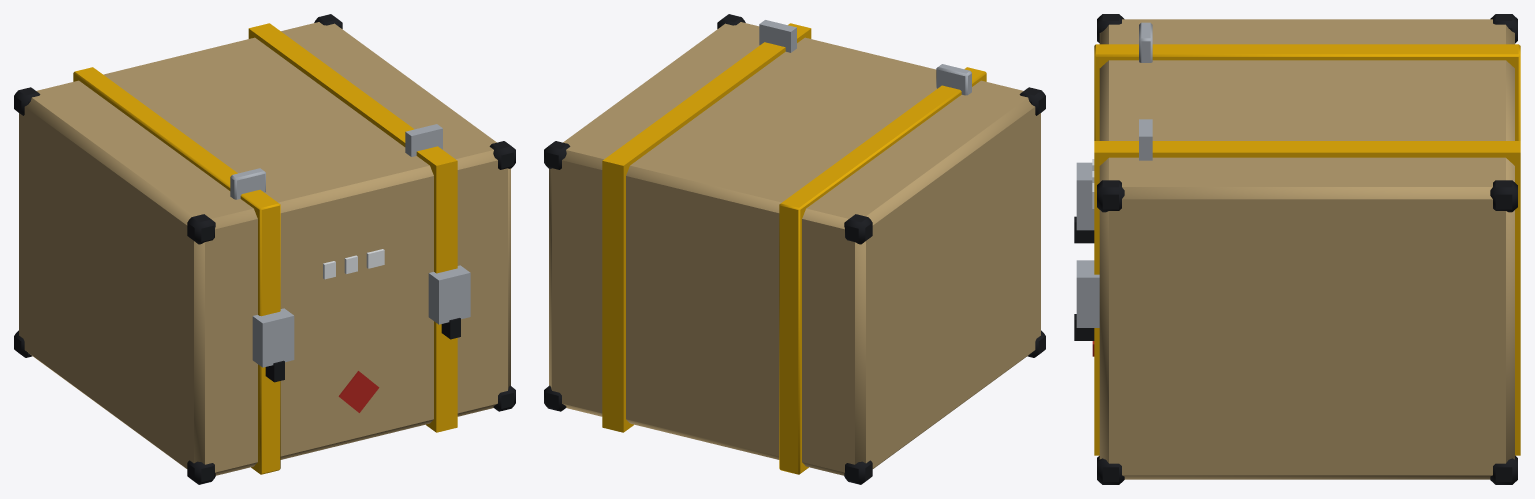
The model's file is crate_strapped_single.glb.
3 views of the same model, side by side, from view 1: azimuth 30°, elevation 25°; view 2: azimuth 150°, elevation 25°; view 3: azimuth 270°, elevation 25° (orthographic). The views are drawn at different scales.
Visible parts, largest first — view 1: crate_strapped_single; view 2: crate_strapped_single; view 3: crate_strapped_single.
Boxes of the visible parts, bbox=[...] form: crate_strapped_single: bbox=[14, 14, 515, 484]; crate_strapped_single: bbox=[544, 14, 1045, 484]; crate_strapped_single: bbox=[1074, 14, 1520, 484].
Bounding box in the file's own units: 0.912 × 0.769 × 0.967.
